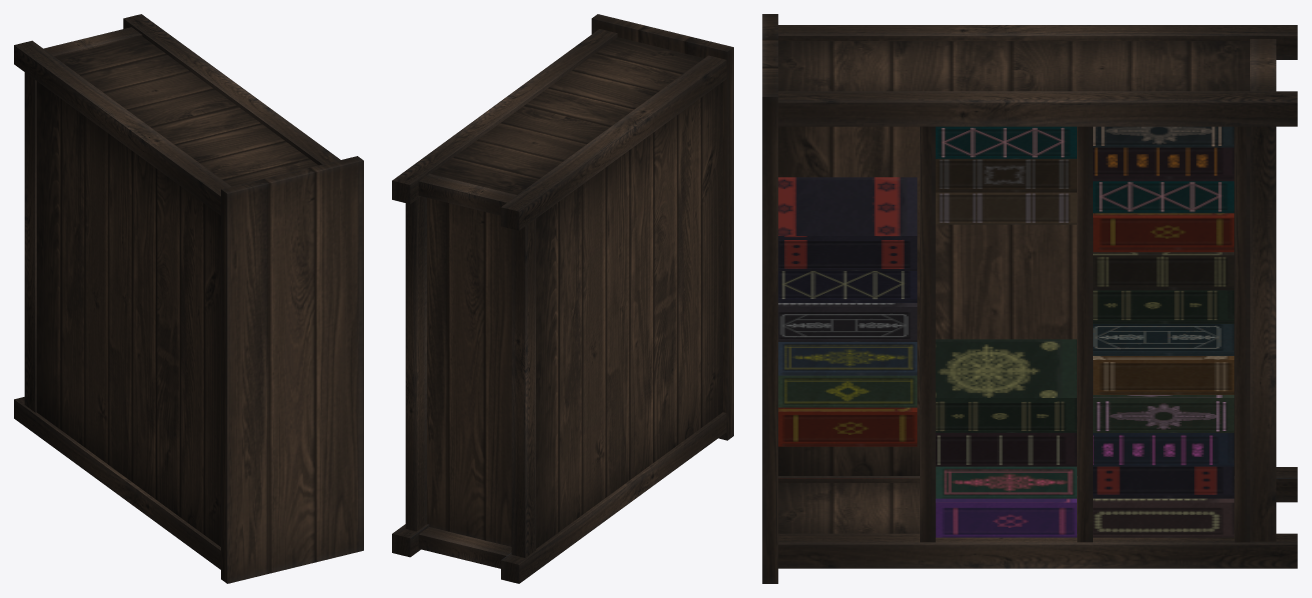
The model's file is Bookshelf.fbx.
The picture shows the model from 3 angles, left to right: view 1: azimuth 30°, elevation 25°; view 2: azimuth 150°, elevation 25°; view 3: azimuth 270°, elevation 25°; orthographic projection. The views are drawn at different scales.
Visible parts, largest first — view 1: Bookshelf; view 2: Bookshelf; view 3: Bookshelf.
Boxes of the visible parts, x1,y1,x2,y2 form: Bookshelf: (14,14,363,583); Bookshelf: (392,14,733,583); Bookshelf: (762,14,1297,583).
Size of the model in its own units: 77.61 by 212 by 211.
Materials: 1 (1 with a texture image).
